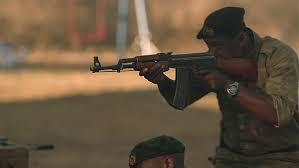rifle: (89, 50, 259, 110)
